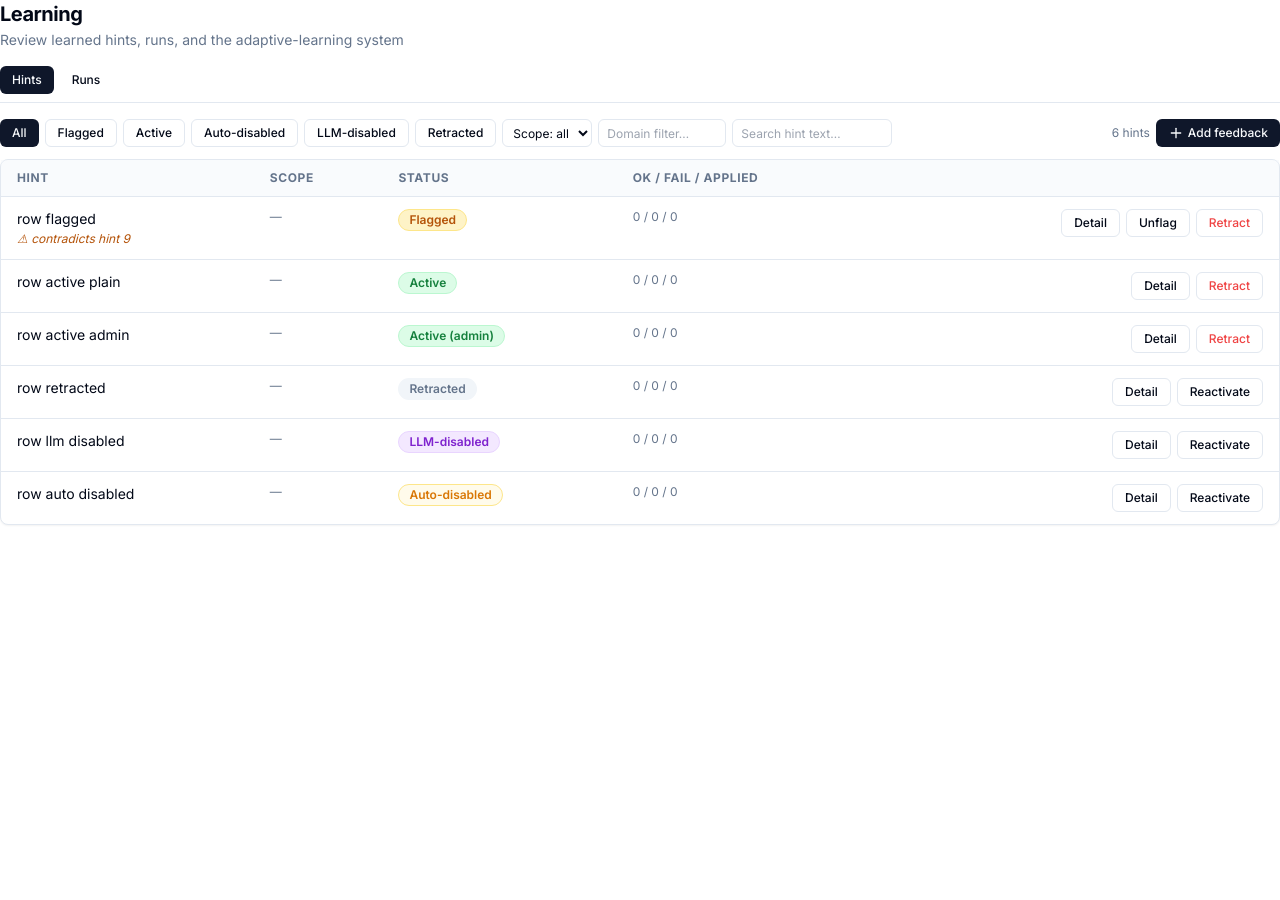
Test: Hints: status badges, and opening the drawer/sheet › opens the detail drawer for the id of the row that was clicked
Click the button "Detail" in the row of "row active plain".
click(1160, 286)  # box top-left (1131, 272), bottom-right (1190, 300)
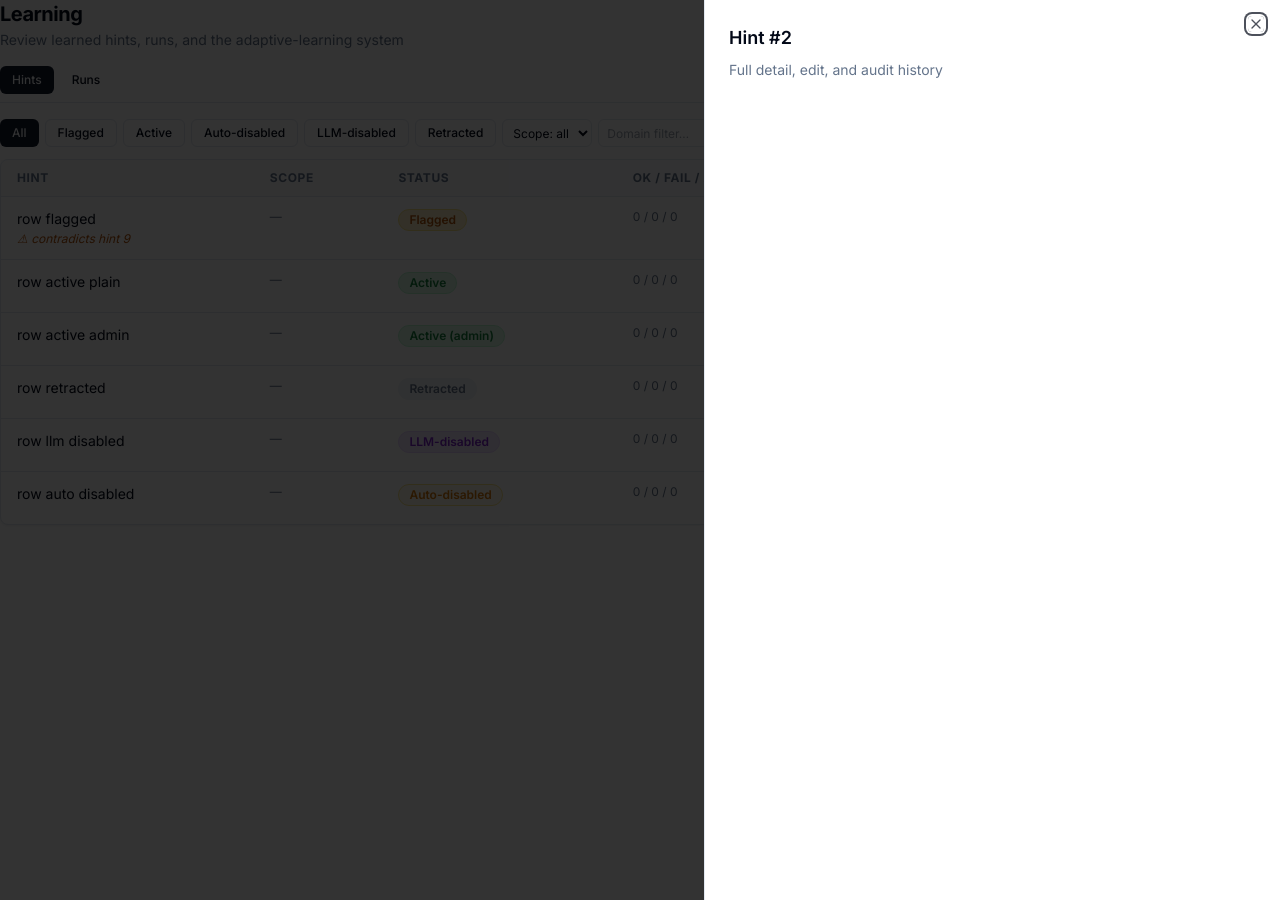
Expected: the heading "Hint #2" is shown, top-left (729, 27), bottom-right (792, 48)
